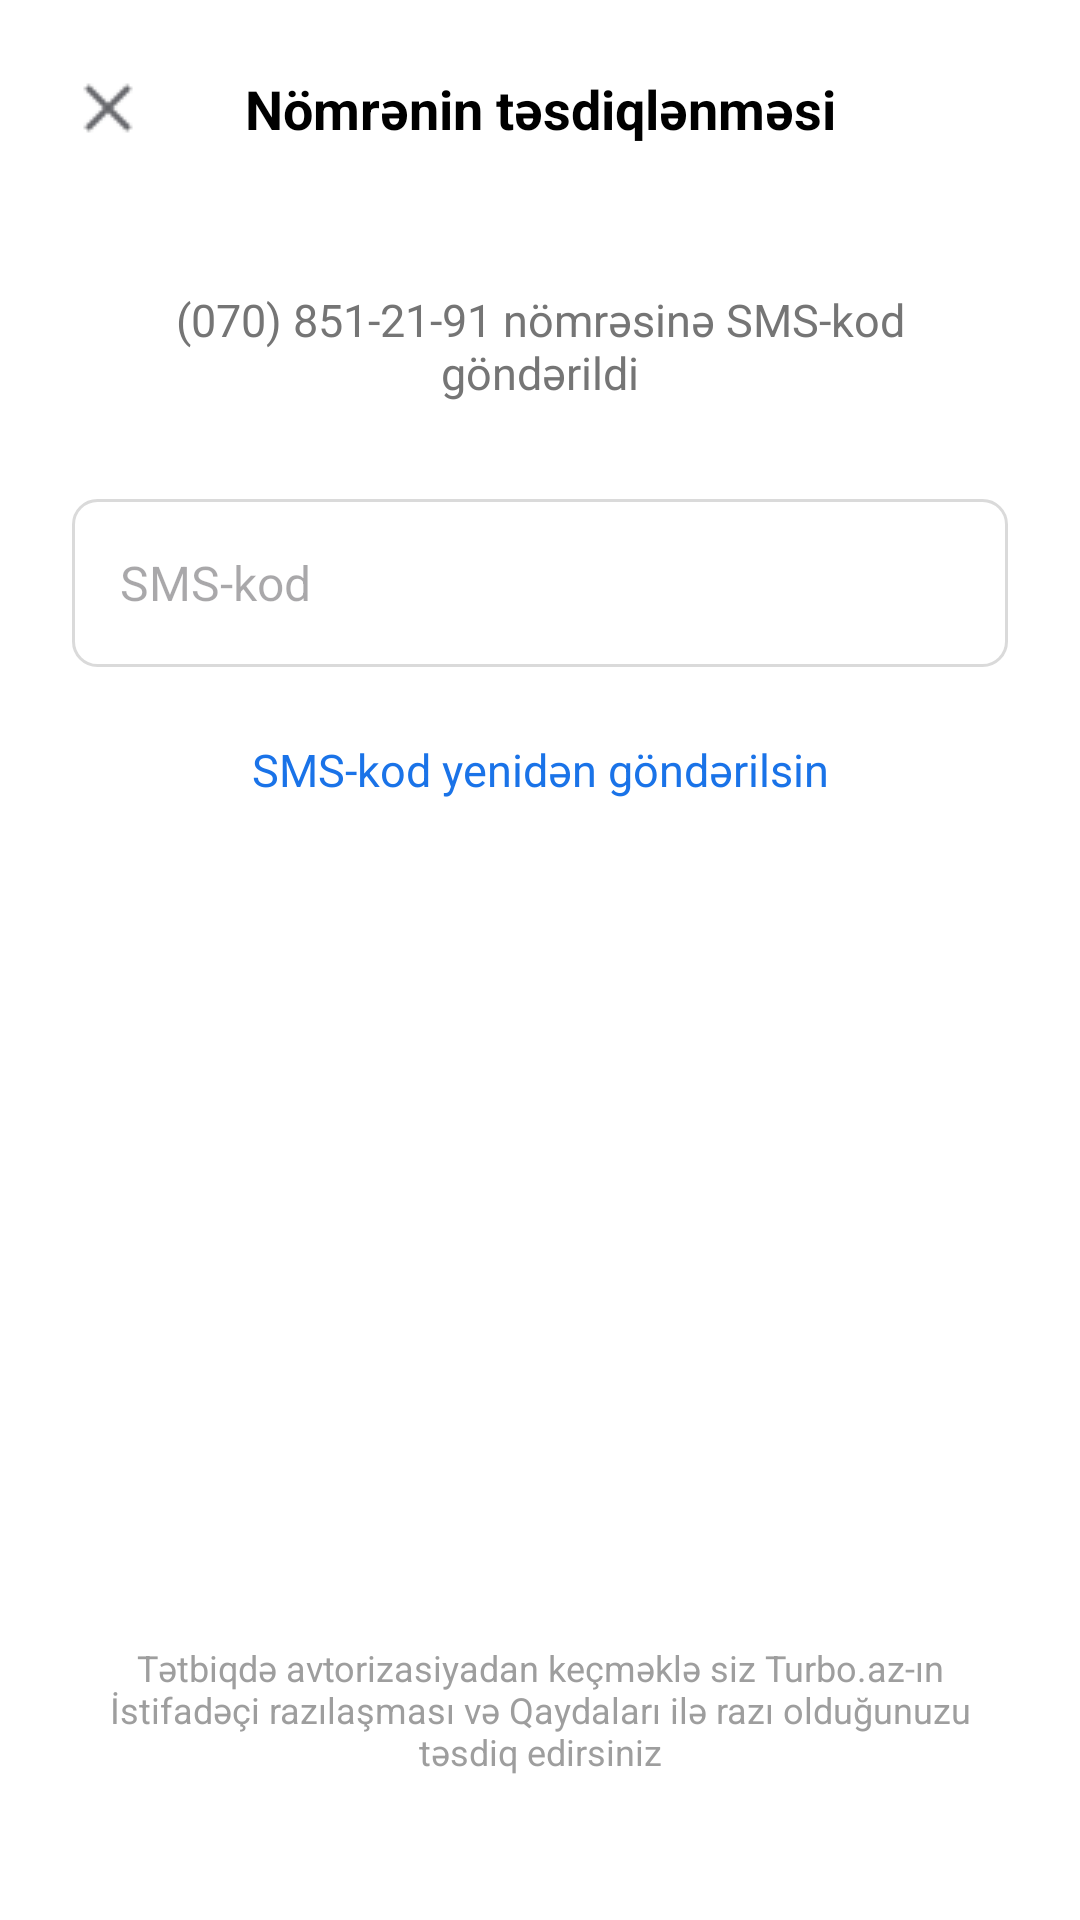

Screen size 1080px×1920px. Icon name, then its box in pixels as (x1, y1, x2, y2):
Bağla: (84, 84, 132, 132)
